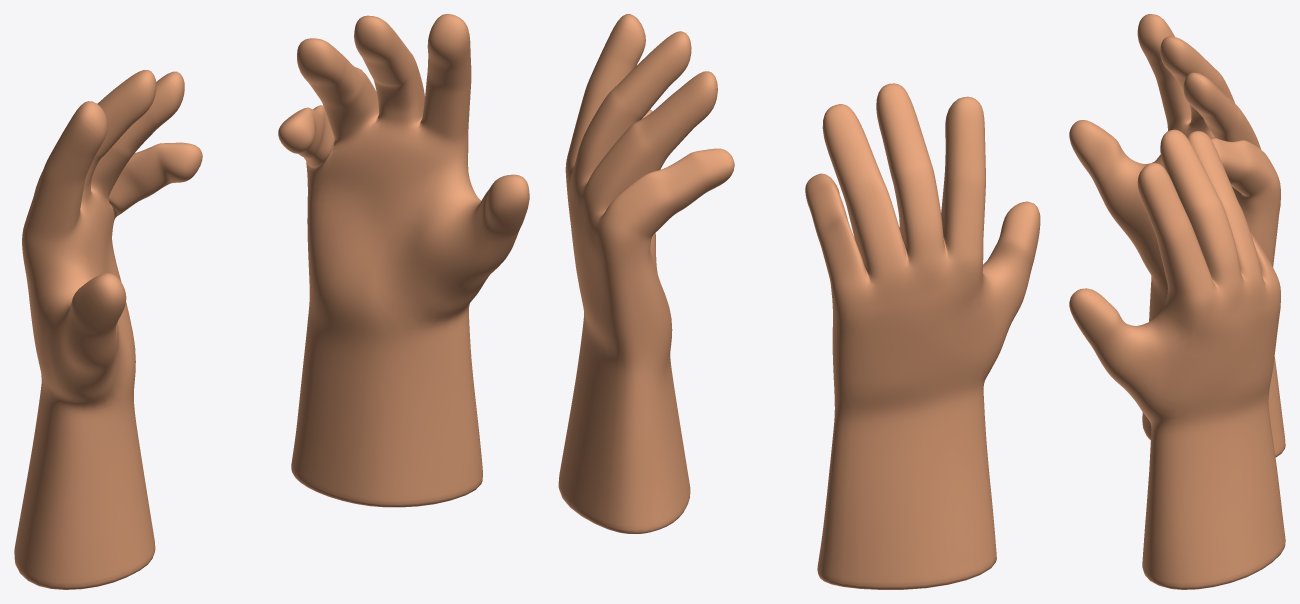
File: hands-holding-heart-3d-animated-icon-823830663892.glb
3 renders of one model, left to right at view 1: azimuth 30°, elevation 25°; view 2: azimuth 150°, elevation 25°; view 3: azimuth 270°, elevation 25°, orthographic. The views are drawn at different scales.
Parts seen in each view (by area): view 1: hand right, hand left; view 2: hand left, hand right; view 3: hand right, hand left.
Part boxes in pixels (left/top/right/bottom): hand right: left=278, top=14, right=529, bottom=507; hand left: left=14, top=70, right=202, bottom=589; hand left: left=805, top=83, right=1040, bottom=589; hand right: left=558, top=14, right=734, bottom=533; hand right: left=1069, top=129, right=1285, bottom=589; hand left: left=1069, top=14, right=1285, bottom=457.
Size of what is drawn, in the model's own units: 2.76 by 2.87 by 1.35.
